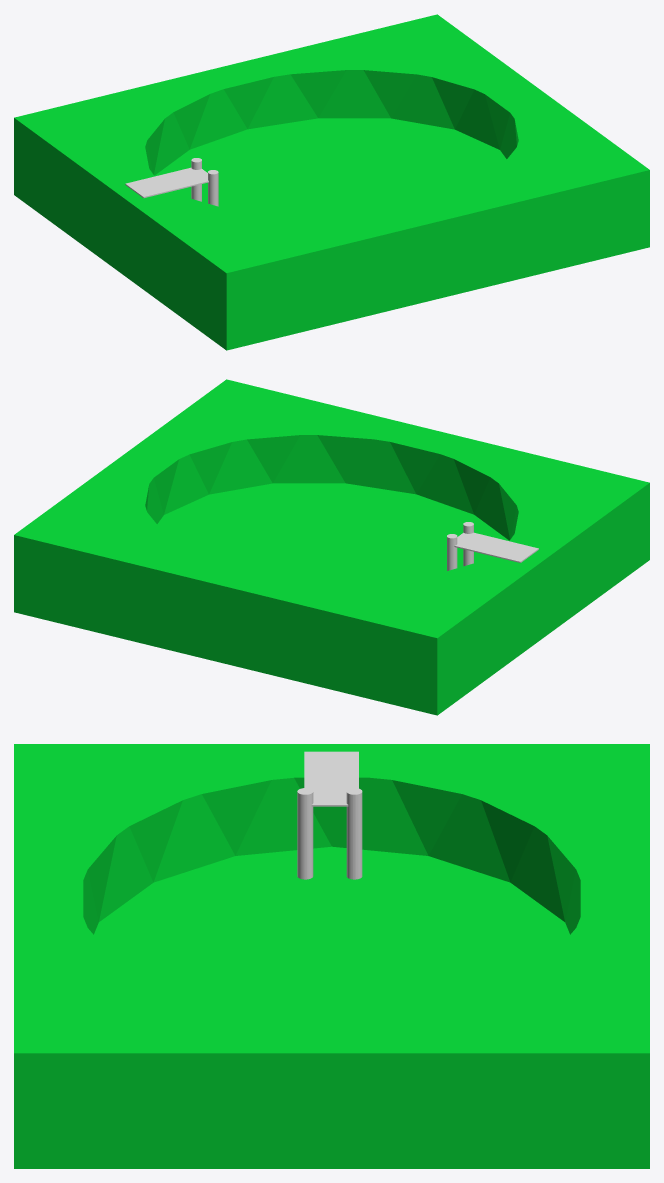
File: lake_dock.fbx
3 views of the same model, one above another, from view 1: azimuth 30°, elevation 25°; view 2: azimuth 150°, elevation 25°; view 3: azimuth 270°, elevation 25° (orthographic). The views are drawn at different scales.
Parts seen in each view (by area): view 1: Lake, Dock; view 2: Lake, Dock; view 3: Lake, Dock.
Part boxes in pixels (bbox=[...]): Lake: bbox=[14, 14, 649, 350]; Dock: bbox=[125, 158, 218, 206]; Lake: bbox=[14, 379, 649, 715]; Dock: bbox=[447, 522, 538, 570]; Lake: bbox=[14, 744, 649, 1168]; Dock: bbox=[297, 751, 362, 879].
Bounding box in the file's own units: 460 × 90.01 × 400.
Materials: 1 (1 with a texture image).
